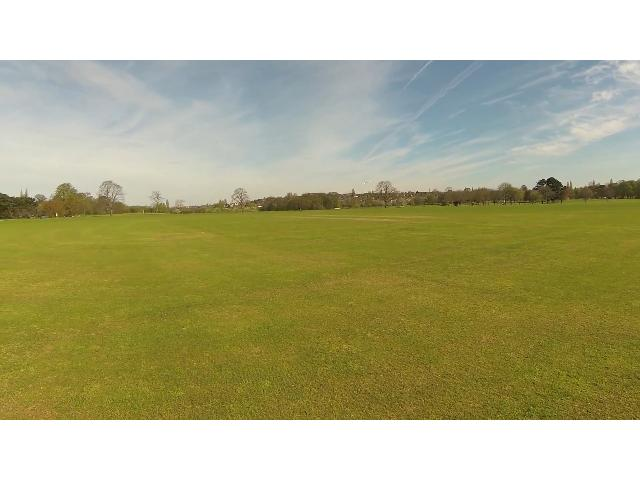Anti-Drone: (359, 179, 375, 189)
